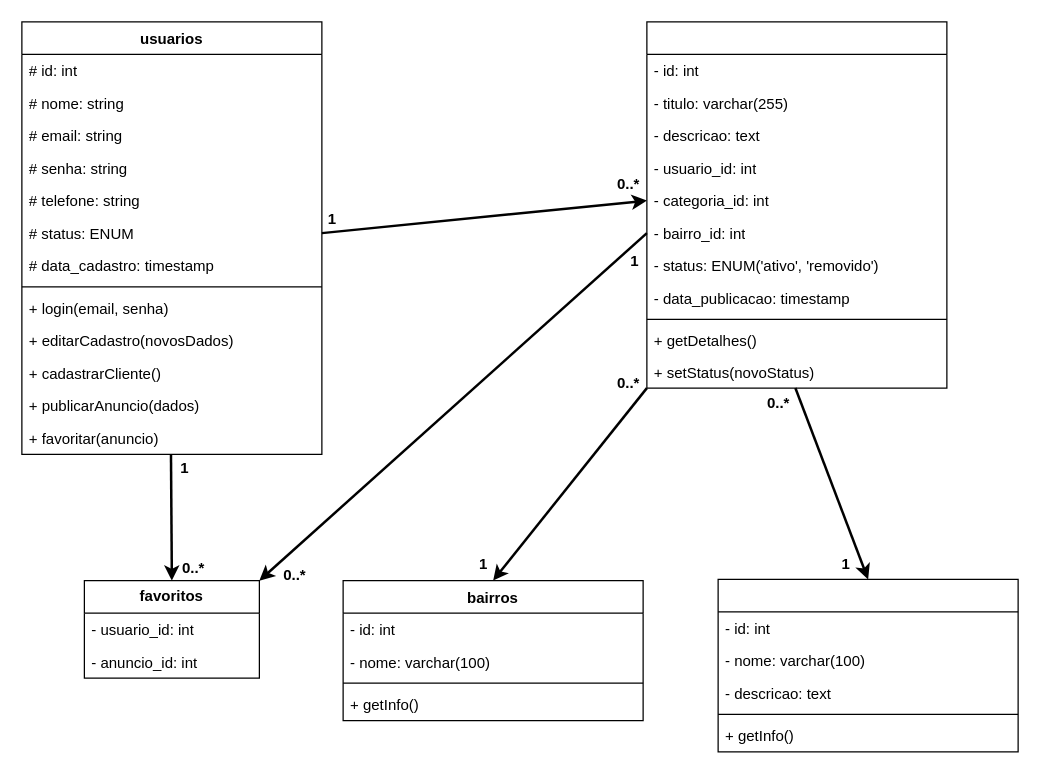
Image size: 1040x778. Some labels were removed from this diagram. The box of each missing label's shape, as (x1, y1, x2, y2) in pixels:
anuncios: (646, 21, 947, 388)
categorias: (717, 578, 1018, 752)
